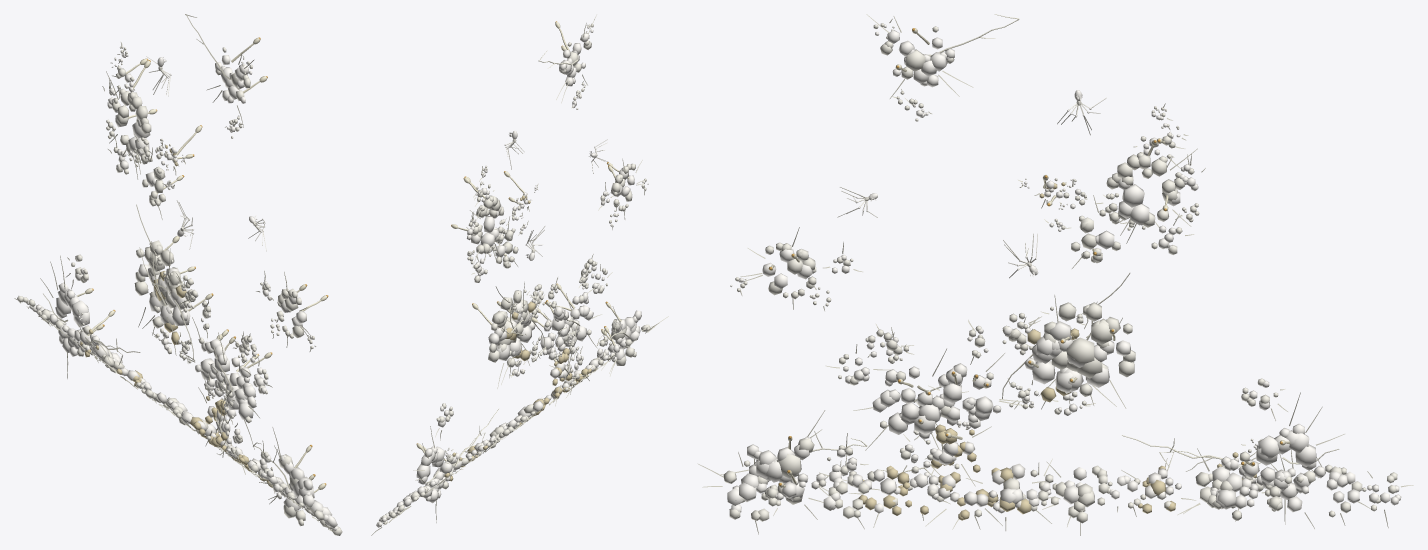
File: fungus_wall.glb
3 renders of one model, left to right at view 1: azimuth 30°, elevation 25°; view 2: azimuth 150°, elevation 25°; view 3: azimuth 270°, elevation 25°, orthographic. The views are drawn at different scales.
Visible parts, largest first — view 1: teil1, teil0, teil3, teil5, teil2, teil4, teil8; view 2: teil1, teil0, teil3, teil2, teil5, teil4, teil8; view 3: teil1, teil0, teil2, teil3, teil5, teil4.
Boxes of the visible parts, left/top/right/bottom form: teil1: left=26, top=52, right=338, bottom=530; teil0: left=17, top=45, right=342, bottom=535; teil3: left=14, top=41, right=333, bottom=531; teil5: left=76, top=38, right=327, bottom=492; teil2: left=80, top=145, right=272, bottom=487; teil4: left=43, top=14, right=290, bottom=489; teil8: left=146, top=56, right=266, bottom=251; teil1: left=376, top=26, right=648, bottom=527; teil0: left=381, top=23, right=650, bottom=524; teil3: left=371, top=14, right=668, bottom=535; teil2: left=444, top=195, right=596, bottom=481; teil5: left=416, top=22, right=629, bottom=462; teil4: left=415, top=50, right=629, bottom=483; teil8: left=505, top=139, right=608, bottom=256; teil1: left=727, top=24, right=1401, bottom=513; teil0: left=723, top=23, right=1397, bottom=523; teil2: left=858, top=182, right=1256, bottom=520; teil3: left=697, top=14, right=1413, bottom=535; teil5: left=768, top=28, right=1290, bottom=487; teil4: left=812, top=14, right=1339, bottom=475.
Size of the model in its own units: 0.169 by 1.35 by 1.71.
